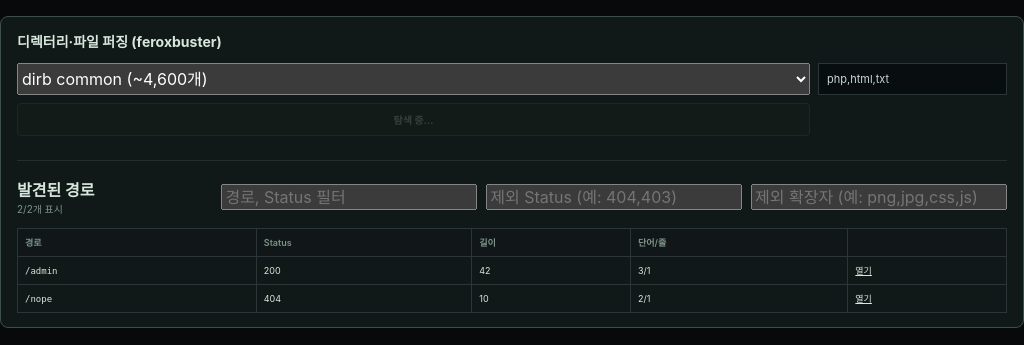
Test: excludes results by status code, e.g. hiding 404 noise
The width and height of the screenshot is (1024, 345).
Check: the text "/nope" is shown, box [25, 294, 52, 304]
Type "404,403" into the field named "제외할 Status" at x=614, y=196, box [486, 184, 742, 210]
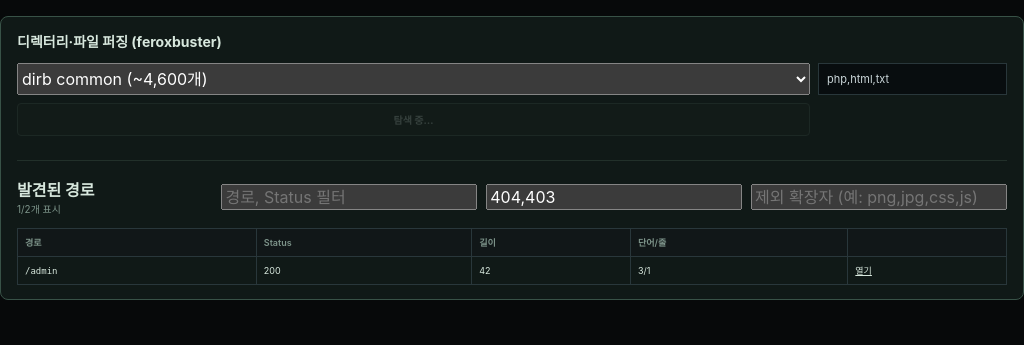
Check: the text "/admin" is shown, box [25, 266, 58, 276]
Check: the text "/nope" is gone
